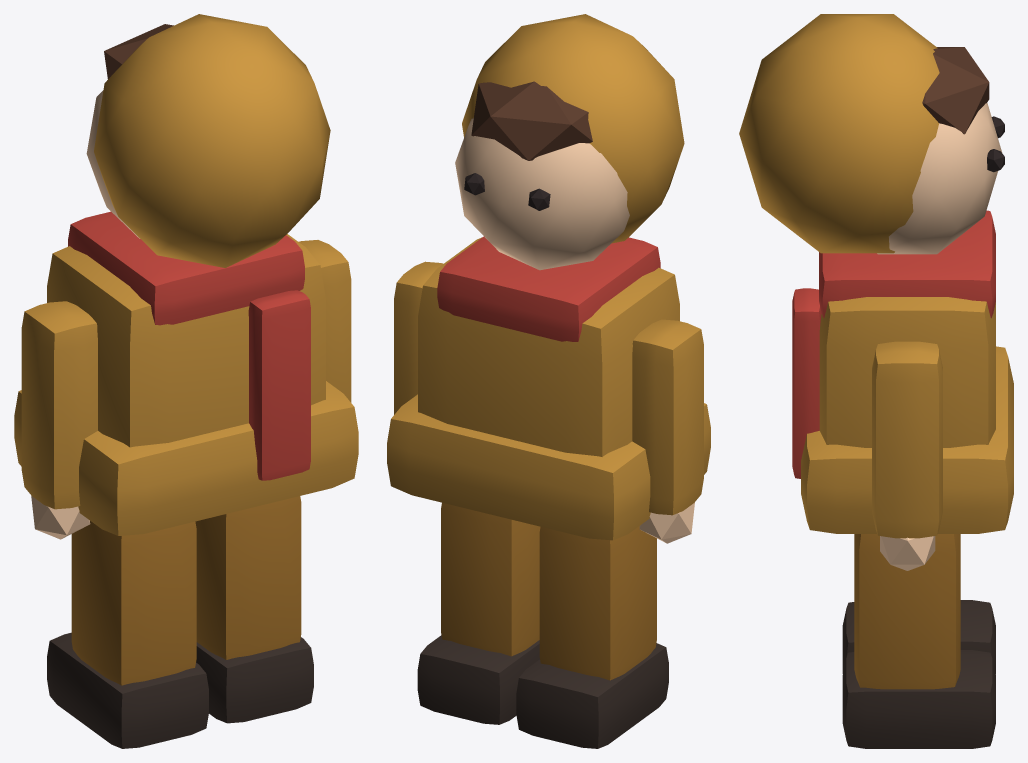
Rendered from mannequin.glb.
The picture shows the model from 3 angles, left to right: view 1: azimuth 30°, elevation 25°; view 2: azimuth 150°, elevation 25°; view 3: azimuth 270°, elevation 25°; orthographic projection. The views are drawn at different scales.
Visible parts, largest first — view 1: TorsoMesh, HeadMesh, LegLMesh, LegRMesh, ArmLMesh, ArmRMesh; view 2: TorsoMesh, HeadMesh, LegLMesh, LegRMesh, ArmLMesh, ArmRMesh; view 3: HeadMesh, TorsoMesh, LegRMesh, ArmRMesh, LegLMesh.
Part boxes in pixels (x1,y1,x2,y2): TorsoMesh: [14, 211, 358, 535]; HeadMesh: [86, 14, 330, 267]; LegLMesh: [47, 521, 208, 748]; LegRMesh: [195, 496, 313, 723]; ArmLMesh: [21, 301, 97, 539]; ArmRMesh: [298, 240, 351, 402]; TorsoMesh: [387, 236, 710, 540]; HeadMesh: [455, 14, 684, 270]; LegLMesh: [516, 526, 668, 748]; LegRMesh: [417, 502, 540, 724]; ArmLMesh: [632, 319, 703, 543]; ArmRMesh: [394, 261, 443, 414]; HeadMesh: [739, 14, 1004, 254]; TorsoMesh: [792, 210, 1013, 533]; LegRMesh: [842, 534, 995, 748]; ArmRMesh: [872, 341, 942, 570]; LegLMesh: [842, 600, 995, 673].
Bounding box in the file's own units: 0.58 × 1.29 × 0.465.
